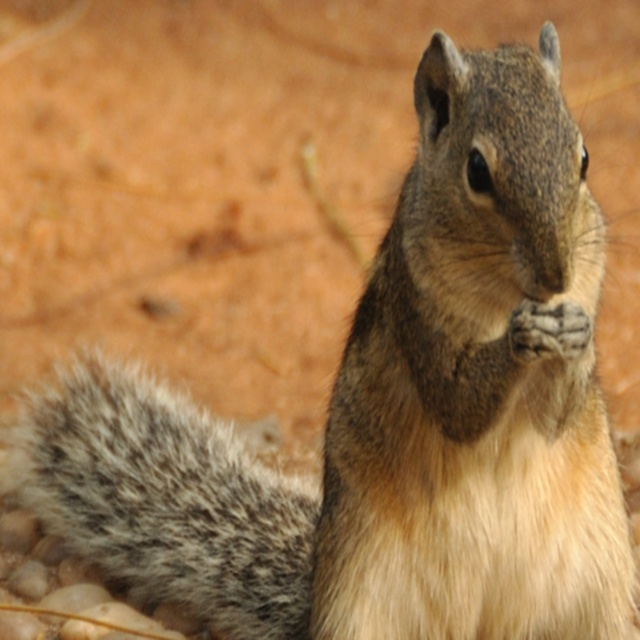Squirrel: (0, 20, 640, 640)
